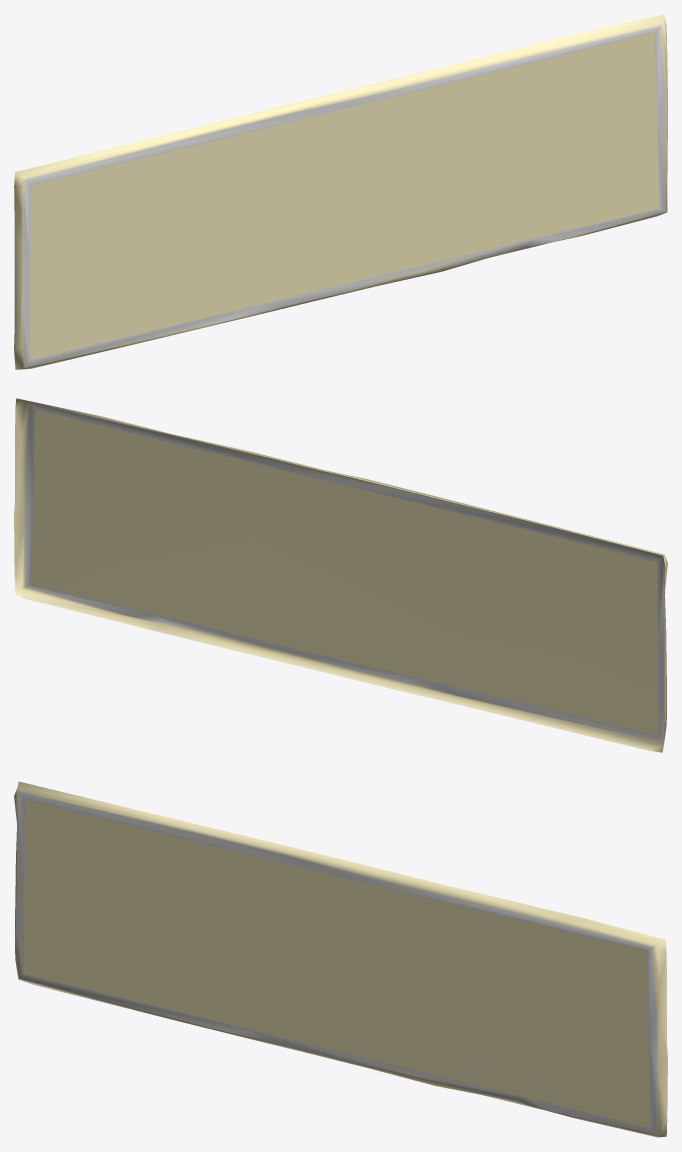
File: ui_panel_10x3_bordered.glb
The picture shows the model from 3 angles, top to bottom: view 1: azimuth 30°, elevation 25°; view 2: azimuth 150°, elevation 25°; view 3: azimuth 330°, elevation 25°; orthographic projection.
Visible parts, largest first — view 1: Cube; view 2: Cube; view 3: Cube.
Part boxes in pixels (box(x1,y1,x2,y2)): Cube: box(14, 14, 667, 369); Cube: box(14, 398, 667, 752); Cube: box(14, 781, 667, 1137).
Size of the model in its own units: 1.98 by 0.5867 by 0.028.
